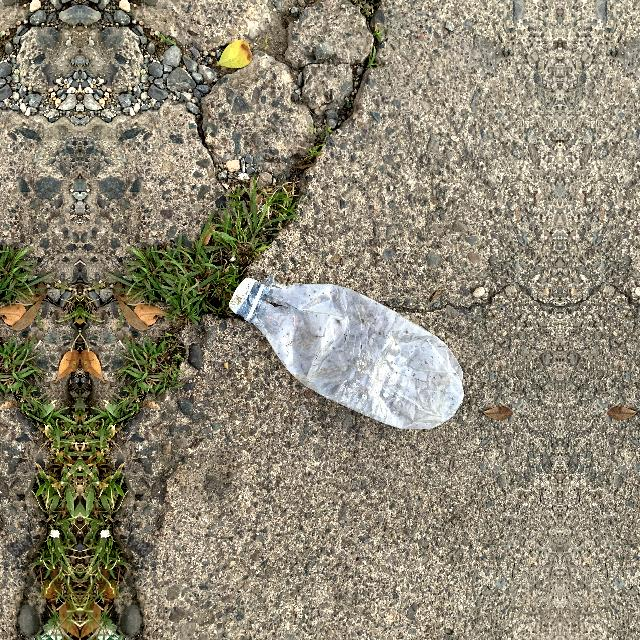Plastic: (225, 270, 473, 440)
